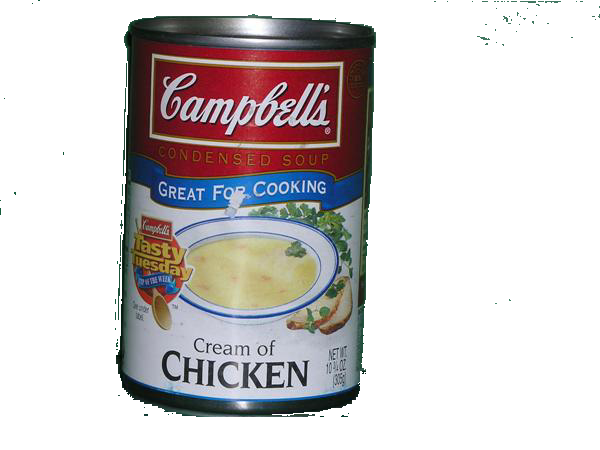grozi_110: (117, 15, 510, 416)
